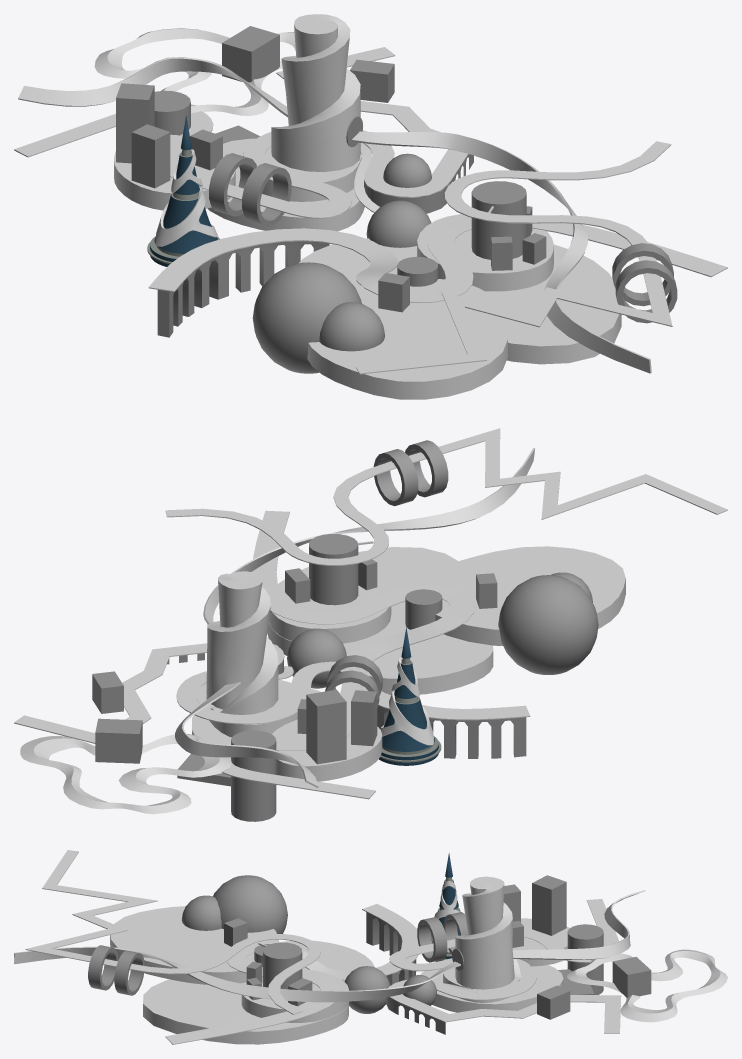
File: loc_05.fbx
3 views of the same model, one above another, from view 1: azimuth 30°, elevation 25°; view 2: azimuth 150°, elevation 25°; view 3: azimuth 270°, elevation 25° (orthographic). The views are drawn at different scales.
Parts seen in each view (by area): view 1: Circle034, Shape506, Shape508, Loft001, Shape507, Line2116, Sphere006, Circle036, Line2128, Circle033, Cylinder4972, Line2143 (+26 smaller); view 2: Circle034, Shape506, Line2116, Shape508, Sphere006, Shape507, Loft001, Circle035, Line2128, Cylinder4971, Circle036, Line2143 (+20 smaller); view 3: Circle036, Circle034, Line2116, Shape506, Loft001, Shape508, Shape507, Sphere006, Line2128, Circle031, Box229932, Circle033 (+20 smaller).
Part boxes in pixels (box(x1,y1,x2,y2)): Circle034: box(307, 279, 507, 399); Shape506: box(271, 14, 360, 172); Shape508: box(356, 141, 672, 374); Loft001: box(18, 57, 651, 373); Shape507: box(148, 217, 727, 302); Line2116: box(14, 47, 468, 218); Sphere006: box(252, 262, 361, 373); Circle036: box(485, 244, 621, 364); Line2128: box(94, 28, 295, 115); Circle033: box(417, 214, 553, 291); Cylinder4972: box(471, 181, 526, 259); Line2143: box(147, 115, 219, 266); Circle034: box(413, 546, 625, 645); Shape506: box(206, 571, 278, 714); Line2116: box(14, 643, 375, 799); Shape508: box(165, 428, 727, 565); Sphere006: box(498, 575, 598, 674); Shape507: box(252, 510, 530, 720); Loft001: box(175, 448, 535, 787); Circle035: box(339, 618, 493, 694); Line2128: box(20, 734, 231, 814); Cylinder4971: box(231, 730, 276, 821); Circle036: box(267, 547, 457, 655); Line2143: box(379, 627, 441, 765); Circle036: box(143, 979, 348, 1044); Circle034: box(110, 906, 278, 984); Line2116: box(388, 899, 621, 1033); Shape506: box(455, 876, 521, 989); Loft001: box(14, 890, 645, 1002); Shape508: box(25, 850, 320, 1014); Shape507: box(165, 904, 418, 1044); Sphere006: box(213, 875, 287, 933); Line2128: box(567, 949, 727, 1022); Circle031: box(420, 965, 563, 1017); Box229932: box(532, 875, 566, 935); Circle033: box(241, 969, 348, 1022).
Size of the model in its own units: 8153 by 3384 by 14994.
